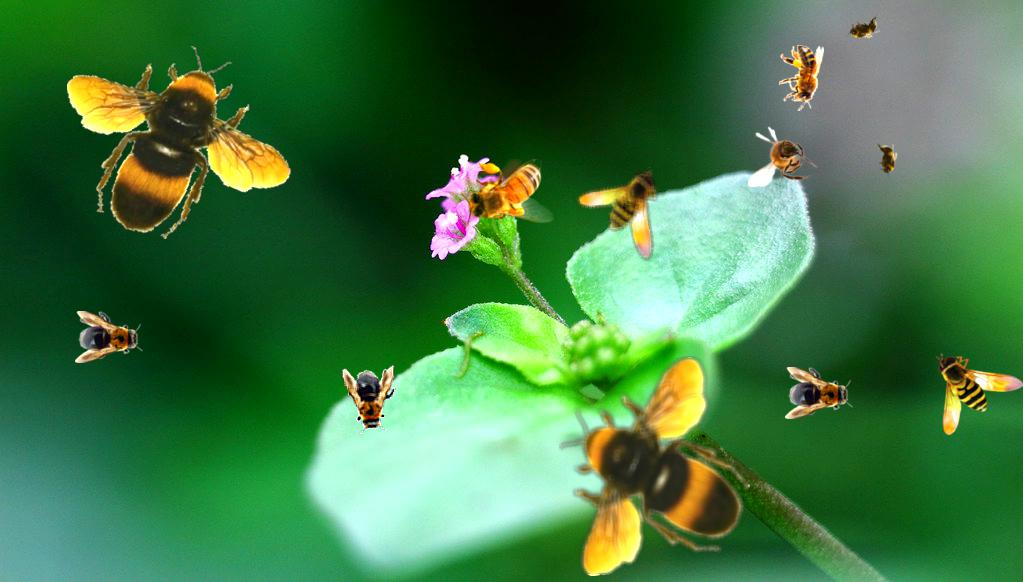Bee: (65, 41, 295, 244), (559, 356, 750, 576), (574, 166, 678, 274), (936, 353, 1023, 435), (461, 159, 554, 227), (341, 363, 401, 437), (748, 126, 818, 187), (75, 311, 143, 363), (785, 367, 853, 419), (779, 45, 824, 111), (840, 13, 886, 45), (876, 140, 898, 180)
